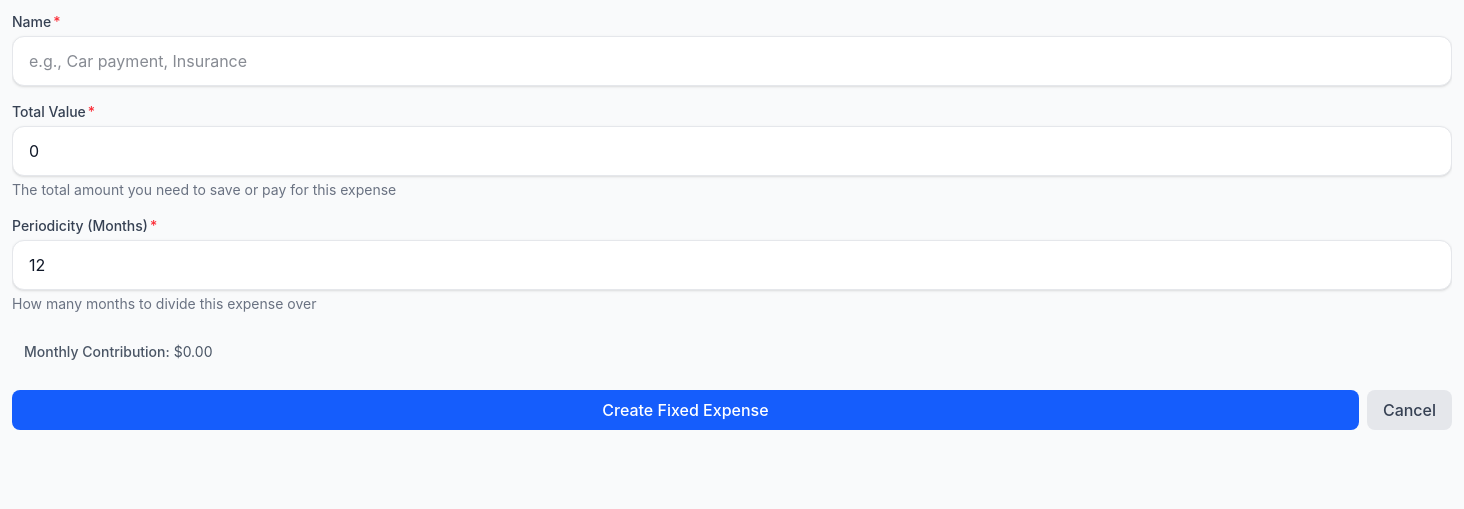
Scenario: FixedExpenseForm › submission › renders an inline error message when the mutation rejects
Step 1. Type "Bill" into the field labelled "Name*" → (732, 61), box [12, 36, 1452, 86]
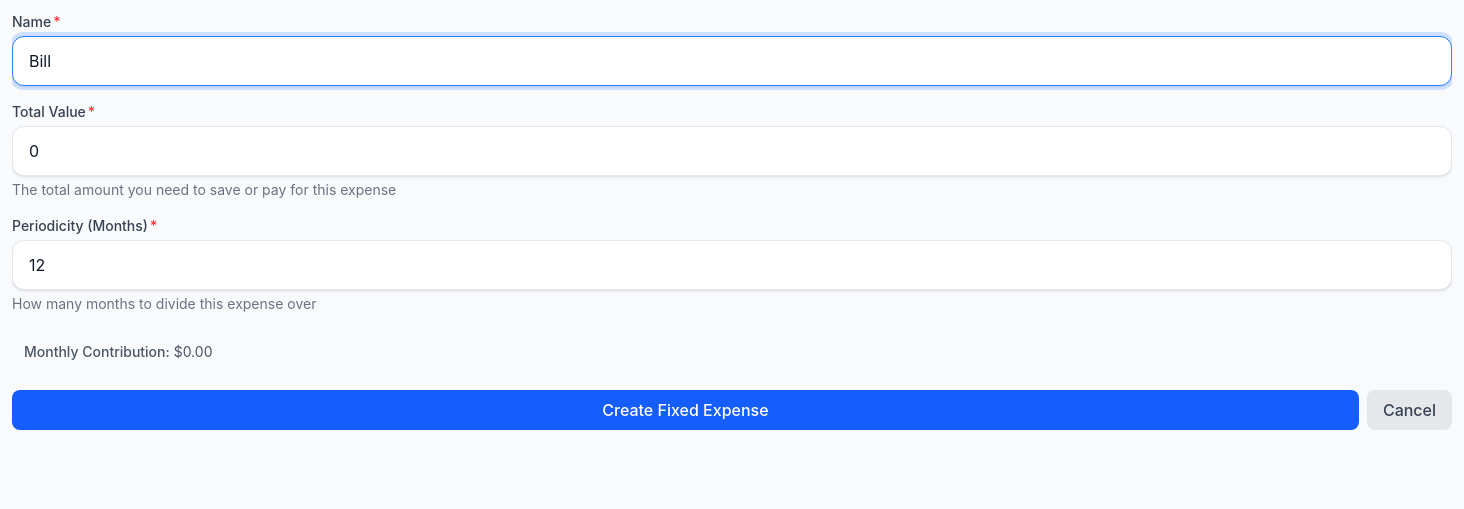
Step 2. Replace the text in the number field labelled "Total Value*" with "100" → (732, 151), box [12, 126, 1452, 176]
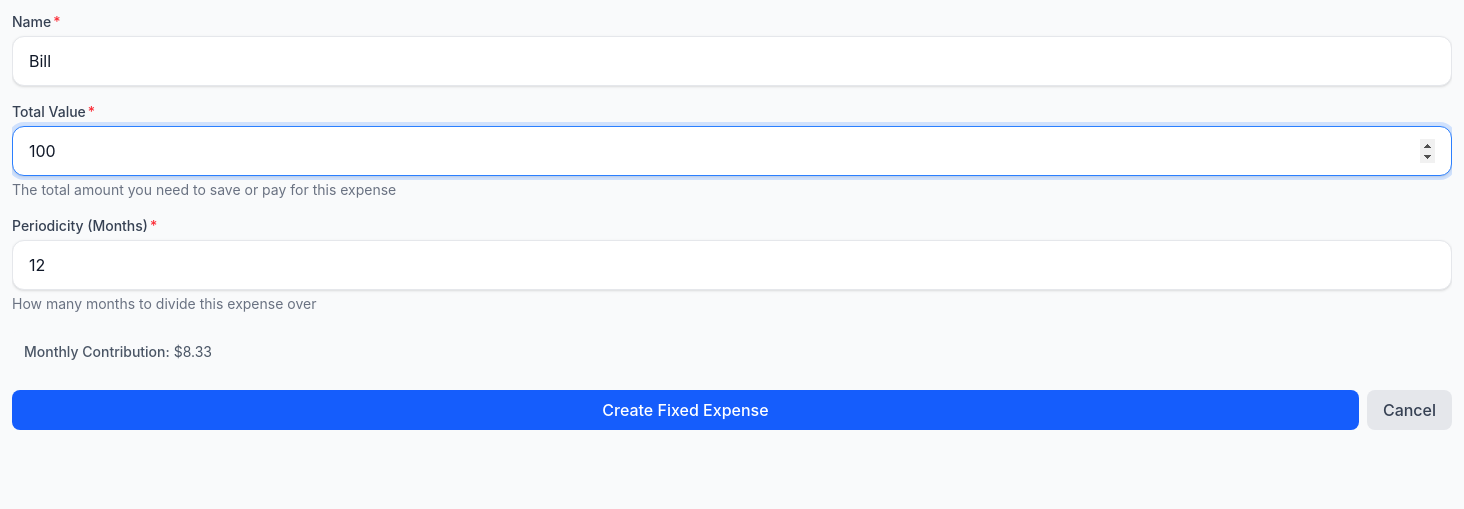
Step 3. Click the button "Create Fixed Expense" → click(685, 410), box [12, 390, 1359, 430]
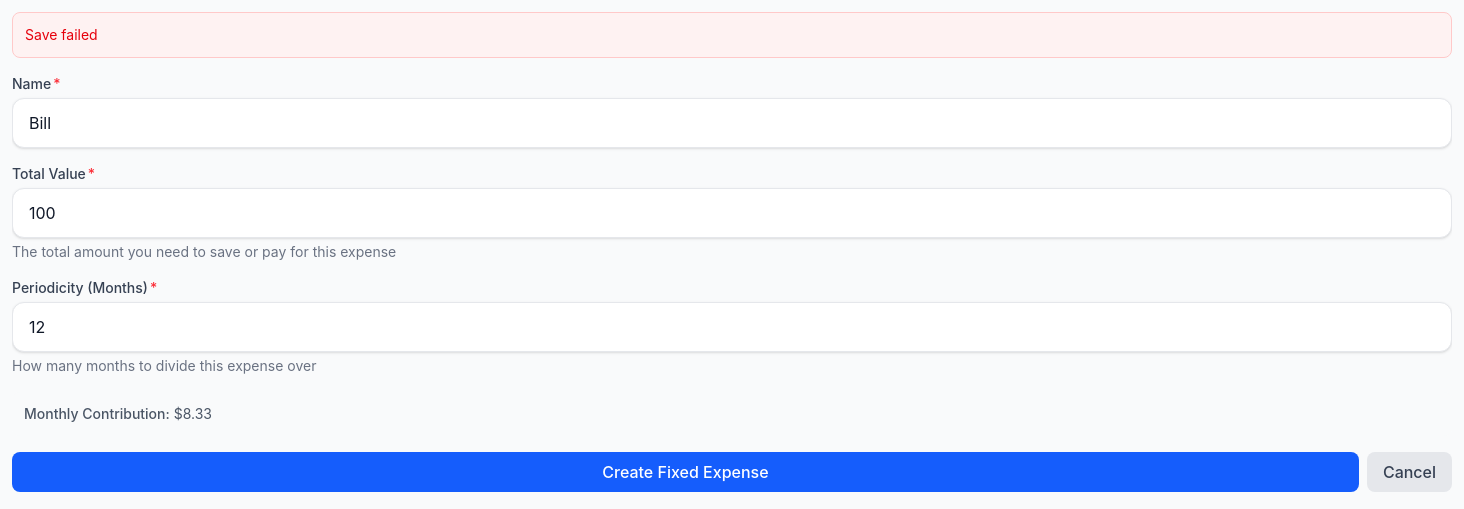
Expected: the text "Save failed" is shown, [25, 26, 98, 43]
